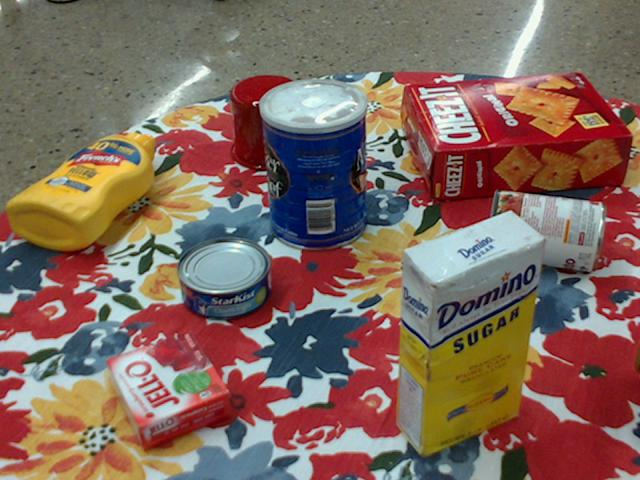cracker_box: (404, 74, 632, 202)
gelatin_box: (108, 334, 232, 454)
master_chef_can: (260, 77, 368, 251)
mug: (230, 74, 326, 170)
mustard_bottle: (6, 132, 154, 250)
potted_meat_can: (637, 351, 639, 367)
sugar_box: (398, 209, 545, 459)
tomato_soup_can: (489, 189, 607, 269)
tuna_fish_can: (176, 238, 271, 321)
